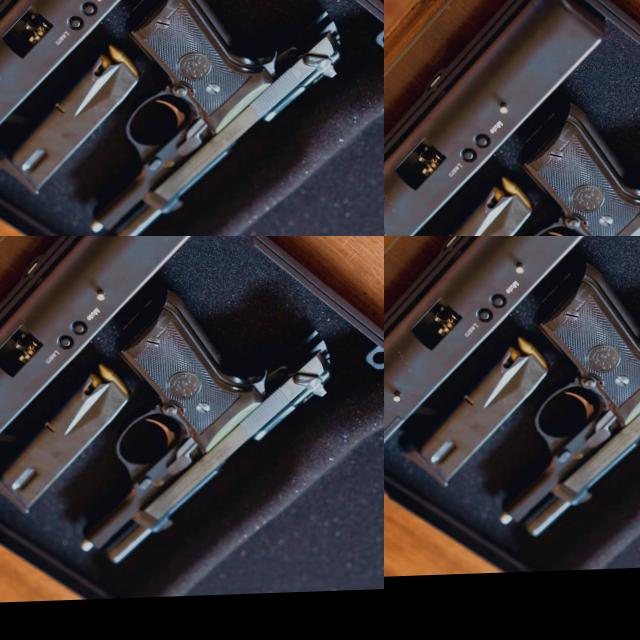handgun: (66, 3, 384, 236), (384, 39, 640, 236), (485, 248, 640, 540), (175, 472, 384, 591)
